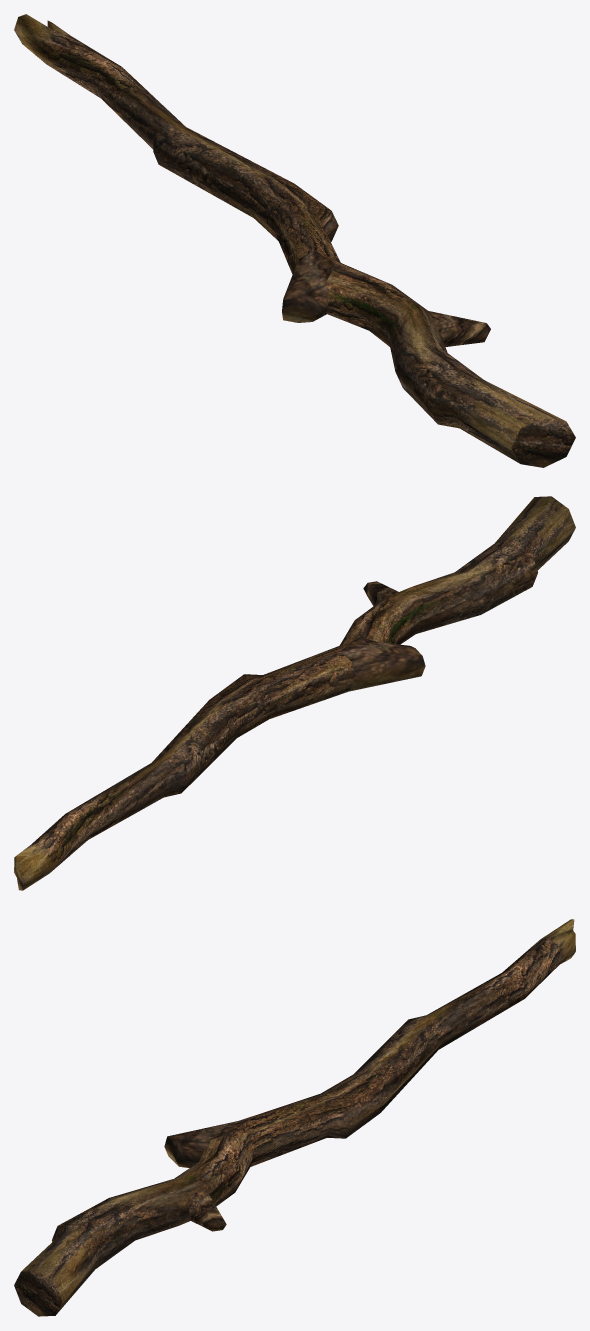
The model's file is Duty Calls TCBTS - Small Meaningless Stick.obj.
The picture shows the model from 3 angles, top to bottom: view 1: azimuth 30°, elevation 25°; view 2: azimuth 150°, elevation 25°; view 3: azimuth 330°, elevation 25°; orthographic projection. The views are drawn at different scales.
Visible parts, largest first — view 1: Stick; view 2: Stick; view 3: Stick.
Part boxes in pixels (left/top/right/bottom): Stick: left=14, top=14, right=575, bottom=467; Stick: left=14, top=496, right=575, bottom=890; Stick: left=14, top=919, right=575, bottom=1316.
Bounding box in the file's own units: 7.39 × 2.56 × 51.49.
1 material, 1 textured.
